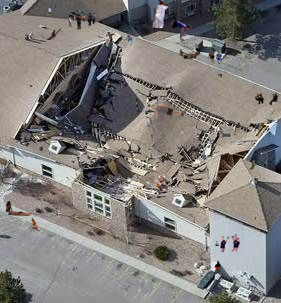Human: (5, 201, 37, 217), (68, 12, 96, 30), (170, 19, 192, 41), (151, 104, 185, 118), (152, 0, 169, 28), (220, 234, 240, 252), (255, 91, 278, 105), (208, 51, 229, 65), (179, 48, 201, 59), (238, 159, 257, 170), (155, 175, 168, 191), (46, 29, 61, 40), (47, 4, 57, 17), (212, 261, 223, 272), (31, 218, 39, 232), (125, 34, 132, 46), (254, 123, 261, 133), (67, 267, 77, 271), (215, 241, 219, 246), (218, 73, 222, 78), (133, 1, 135, 9), (46, 135, 49, 140), (173, 295, 175, 300), (14, 1, 16, 6), (95, 0, 97, 4), (203, 104, 206, 106), (35, 156, 37, 159), (75, 216, 77, 219), (278, 277, 281, 279), (208, 9, 209, 13), (86, 155, 87, 159), (255, 217, 256, 220), (261, 20, 262, 22)
